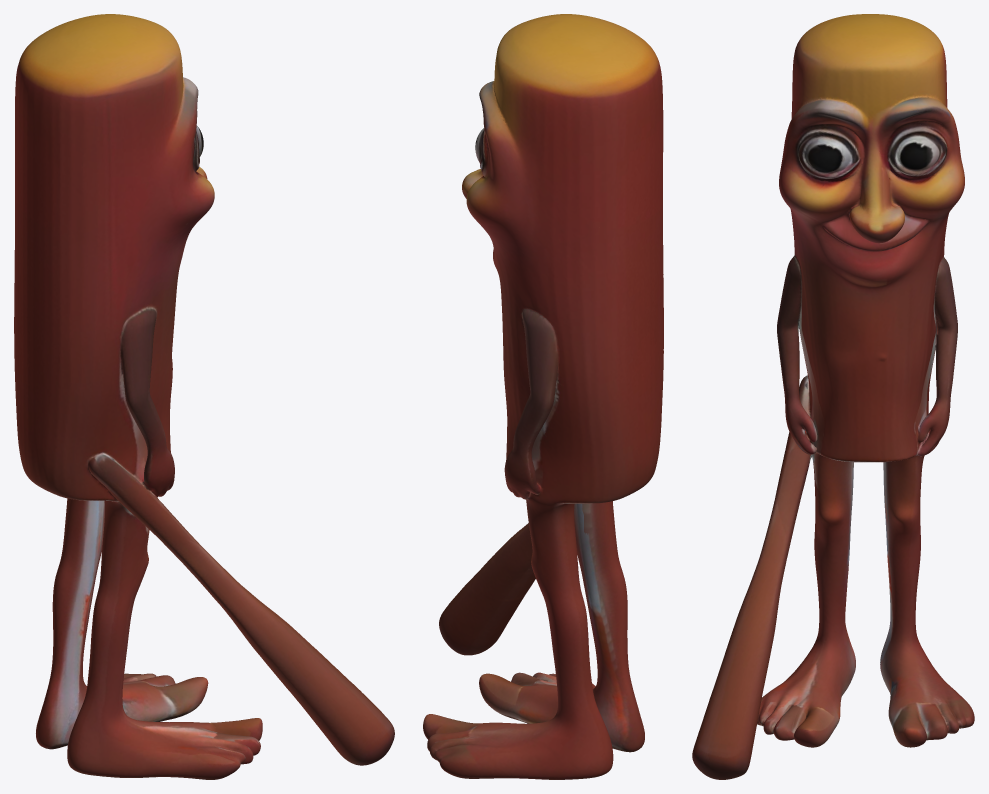
File: source.glb
3 renders of one model, left to right at view 1: azimuth 30°, elevation 25°; view 2: azimuth 150°, elevation 25°; view 3: azimuth 270°, elevation 25°, orthographic. The views are drawn at different scales.
Parts seen in each view (by area): view 1: tripo_node_09e9005a-9efe-43d0-b58a-f9916d7260a5_0; view 2: tripo_node_09e9005a-9efe-43d0-b58a-f9916d7260a5_0; view 3: tripo_node_09e9005a-9efe-43d0-b58a-f9916d7260a5_0.
Part boxes in pixels (box(x1,y1,x2,y2)): tripo_node_09e9005a-9efe-43d0-b58a-f9916d7260a5_0: box(14, 14, 394, 779); tripo_node_09e9005a-9efe-43d0-b58a-f9916d7260a5_0: box(423, 14, 663, 779); tripo_node_09e9005a-9efe-43d0-b58a-f9916d7260a5_0: box(692, 14, 974, 779).
Size of the model in its own units: 0.4116 by 1 by 0.3791.
1 material, 1 textured.
